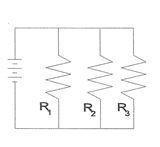resistor: (35, 53, 74, 101), (83, 47, 114, 98), (120, 46, 149, 96)
